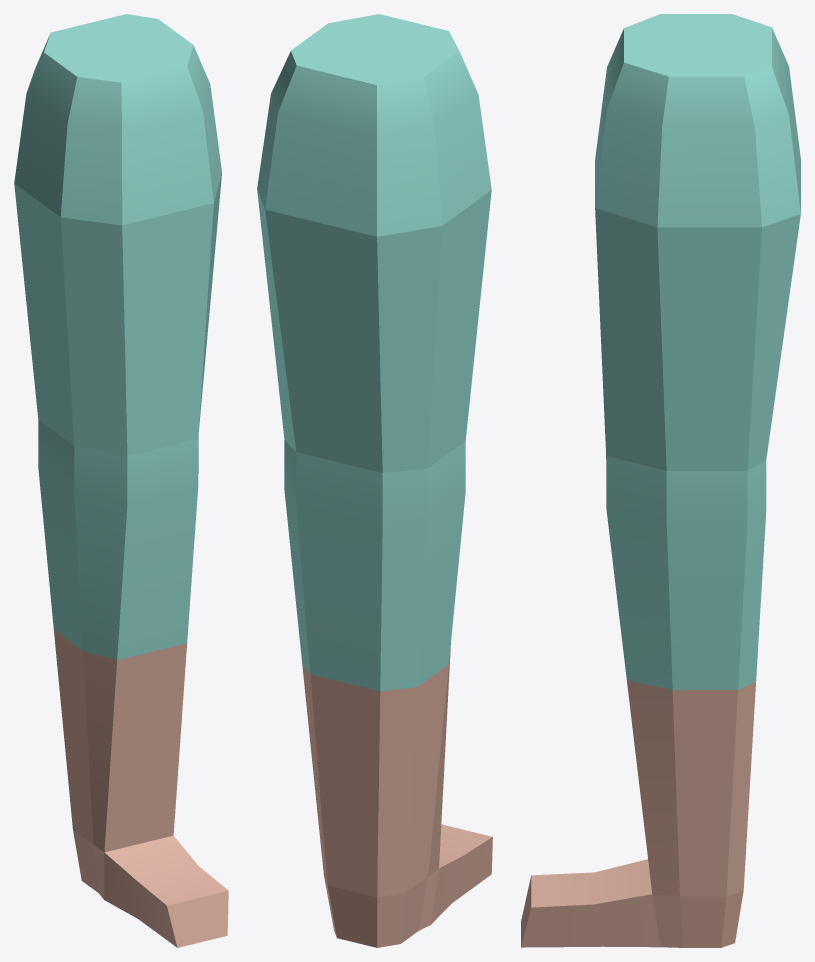
File: player_left_leg.fbx
The picture shows the model from 3 angles, left to right: view 1: azimuth 30°, elevation 25°; view 2: azimuth 150°, elevation 25°; view 3: azimuth 270°, elevation 25°; orthographic projection. The views are drawn at different scales.
Visible parts, largest first — view 1: pPlane3; view 2: pPlane3; view 3: pPlane3.
Boxes of the visible parts, x1,y1,x2,y2 form: pPlane3: (14, 14, 228, 947); pPlane3: (257, 14, 492, 947); pPlane3: (521, 14, 800, 947).
Size of the model in its own units: 0.8353 by 3.98 by 1.14.
